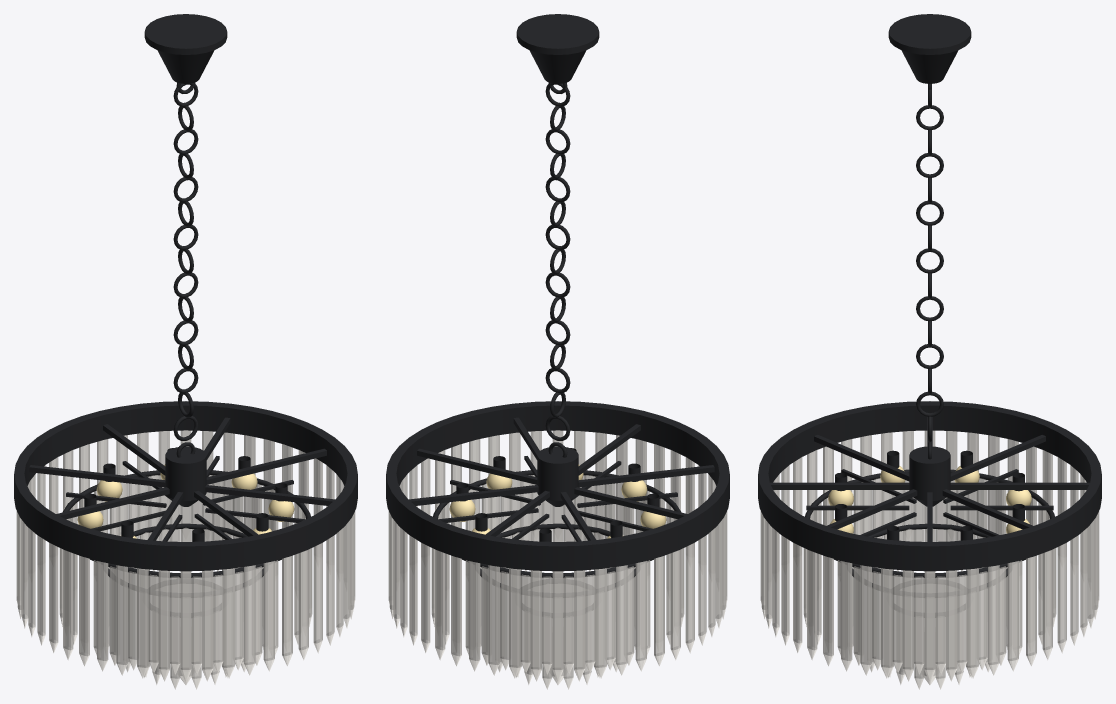
Rendered from Luxe_Hanger_Lamp.obj.
3 renders of one model, left to right at view 1: azimuth 30°, elevation 25°; view 2: azimuth 150°, elevation 25°; view 3: azimuth 270°, elevation 25°, orthographic.
Parts seen in each view (by area): view 1: Hanger_CrystalGlass, Hanger_BlackMetal, Hanger_BulbGlow; view 2: Hanger_CrystalGlass, Hanger_BlackMetal, Hanger_BulbGlow; view 3: Hanger_CrystalGlass, Hanger_BlackMetal, Hanger_BulbGlow.
Part boxes in pixels (<box>): Hanger_CrystalGlass: <box>16,430,355,689</box>; Hanger_BlackMetal: <box>14,14,357,587</box>; Hanger_BulbGlow: <box>77,464,294,538</box>; Hanger_CrystalGlass: <box>388,430,727,689</box>; Hanger_BlackMetal: <box>386,14,729,587</box>; Hanger_BulbGlow: <box>449,464,666,538</box>; Hanger_CrystalGlass: <box>760,430,1099,689</box>; Hanger_BlackMetal: <box>758,14,1101,587</box>; Hanger_BulbGlow: <box>828,466,1031,533</box>.
Bounding box in the file's own units: 1 × 2.1 × 1.
Materials: 3 (3 with a texture image).
